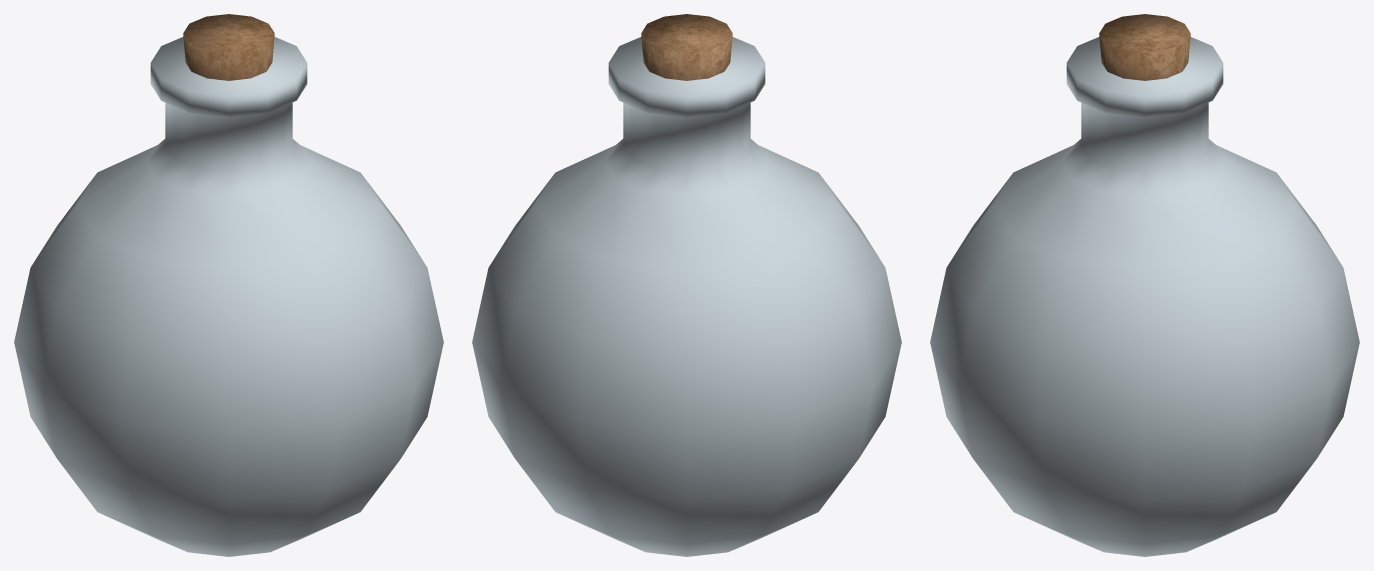
Rendered from potion.fbx.
3 renders of one model, left to right at view 1: azimuth 30°, elevation 25°; view 2: azimuth 150°, elevation 25°; view 3: azimuth 270°, elevation 25°, orthographic.
Visible parts, largest first — view 1: bottle2; view 2: bottle2; view 3: bottle2.
Boxes of the visible parts, x1=… form: bottle2: x1=14, y1=14, x2=443, y2=556; bottle2: x1=472, y1=14, x2=901, y2=556; bottle2: x1=930, y1=14, x2=1359, y2=556.
Size of the model in its own units: 45.72 by 59.13 by 45.72.
